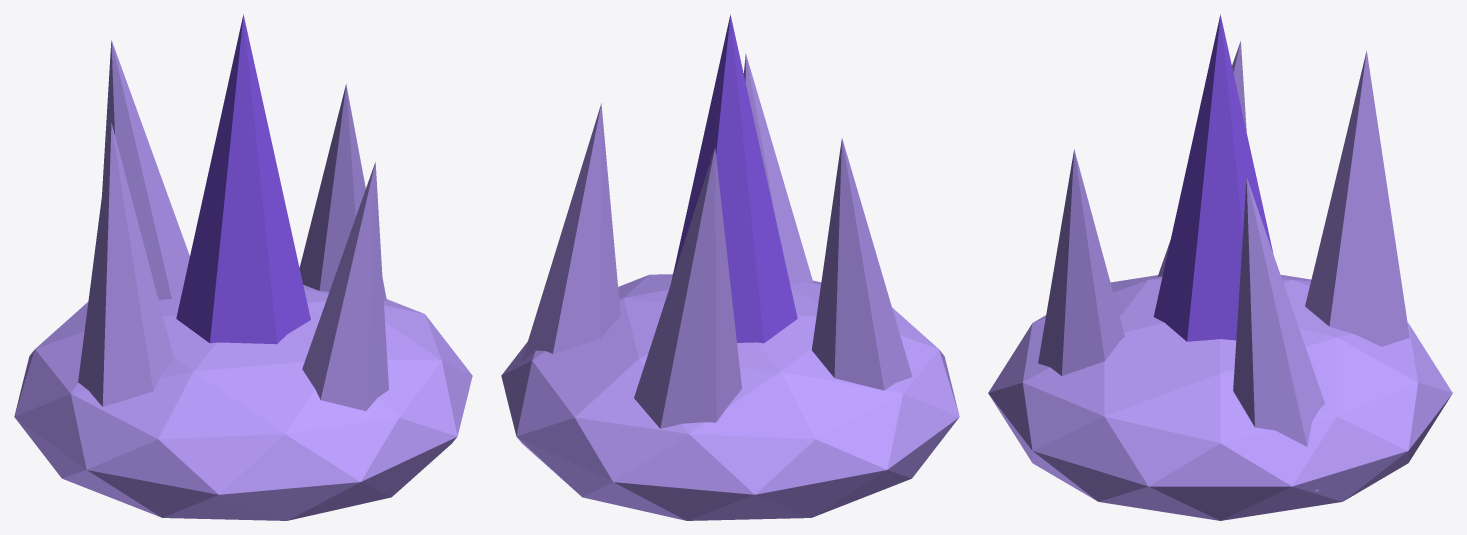
Rendered from Scuba_CoralPurple.fbx.
3 renders of one model, left to right at view 1: azimuth 30°, elevation 25°; view 2: azimuth 150°, elevation 25°; view 3: azimuth 270°, elevation 25°, orthographic.
Parts seen in each view (by area): view 1: CoralPurple; view 2: CoralPurple; view 3: CoralPurple.
Part boxes in pixels (x1,y1,x2,y2): CoralPurple: (14, 14, 472, 520); CoralPurple: (501, 14, 959, 520); CoralPurple: (988, 14, 1452, 520).
Size of the model in its own units: 0.9511 by 1.1 by 1.
